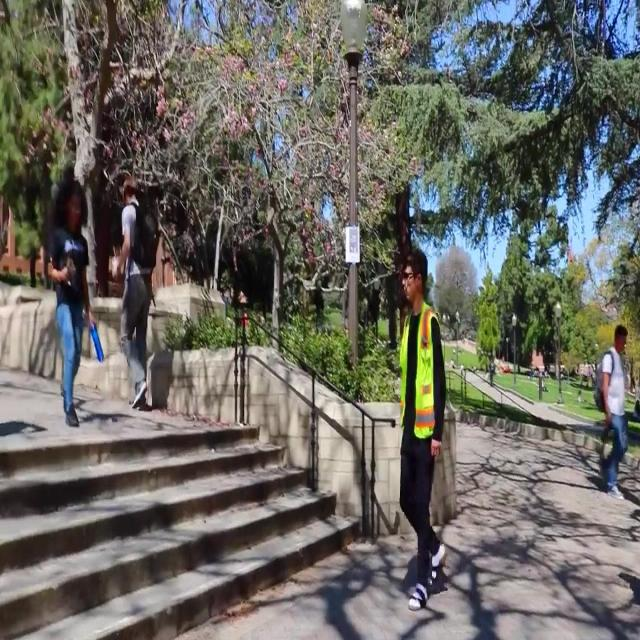Reflective-Jacket: (396, 302, 448, 444), (594, 346, 639, 432)
